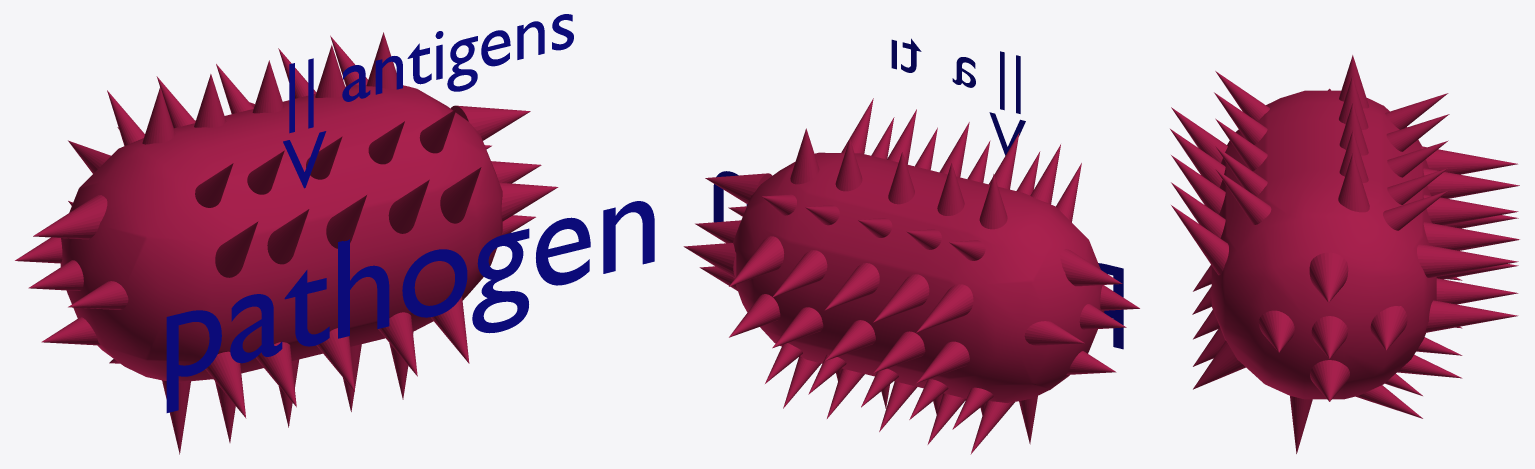
The model's file is pathogen.obj.
3 renders of one model, left to right at view 1: azimuth 30°, elevation 25°; view 2: azimuth 150°, elevation 25°; view 3: azimuth 270°, elevation 25°, orthographic. The views are drawn at different scales.
Visible parts, largest first — view 1: Mball, Text, Text.001, Cone.060, Cone.056, Cone.036, Cone.033, Cone.038, Cone.030, Cone.034, Cone.058, Cone.035 (+23 smaller); view 2: Mball, Text.001, Text, Cone.006, Cone.009, Cone.005, Cone.060, Cone.008, Cone.007, Cone.013, Cone.010, Cone.014 (+36 smaller); view 3: Mball, Cone.009, Cone.010, Cone.008, Cone.007, Cone.005, Cone.056, Cone.006, Cone.030, Cone.011, Cone.059, Cone.057 (+28 smaller).
Boxes of the visible parts, <box> form: Mball: <box>60,85,502,382</box>; Text: <box>166,201,654,412</box>; Text.001: <box>283,14,573,188</box>; Cone.060: <box>33,195,107,239</box>; Cone.056: <box>451,105,530,140</box>; Cone.036: <box>205,351,246,418</box>; Cone.033: <box>215,221,258,277</box>; Cone.038: <box>378,312,417,376</box>; Cone.030: <box>440,167,481,223</box>; Cone.034: <box>267,209,309,264</box>; Cone.058: <box>499,182,558,221</box>; Cone.035: <box>256,342,296,407</box>; Mball: <box>733,152,1104,402</box>; Text.001: <box>891,38,1025,155</box>; Text: <box>713,171,1123,349</box>; Cone.006: <box>916,284,973,332</box>; Cone.009: <box>729,236,784,286</box>; Cone.005: <box>873,274,929,322</box>; Cone.060: <box>1060,249,1122,286</box>; Cone.008: <box>772,250,827,297</box>; Cone.007: <box>825,263,879,310</box>; Cone.013: <box>916,341,969,383</box>; Cone.010: <box>729,294,780,337</box>; Cone.014: <box>873,331,925,373</box>; Mball: <box>1211,90,1436,399</box>; Cone.009: <box>1417,244,1518,277</box>; Cone.010: <box>1425,300,1518,332</box>; Cone.008: <box>1423,222,1518,250</box>; Cone.007: <box>1423,194,1518,225</box>; Cone.005: <box>1423,168,1519,198</box>; Cone.056: <box>1309,252,1348,302</box>; Cone.006: <box>1420,146,1517,174</box>; Cone.030: <box>1171,205,1228,275</box>; Cone.011: <box>1436,278,1518,304</box>; Cone.059: <box>1310,360,1349,401</box>; Cone.057: <box>1370,306,1407,350</box>.
Size of the model in its own units: 5.84 by 4.12 by 3.54.
